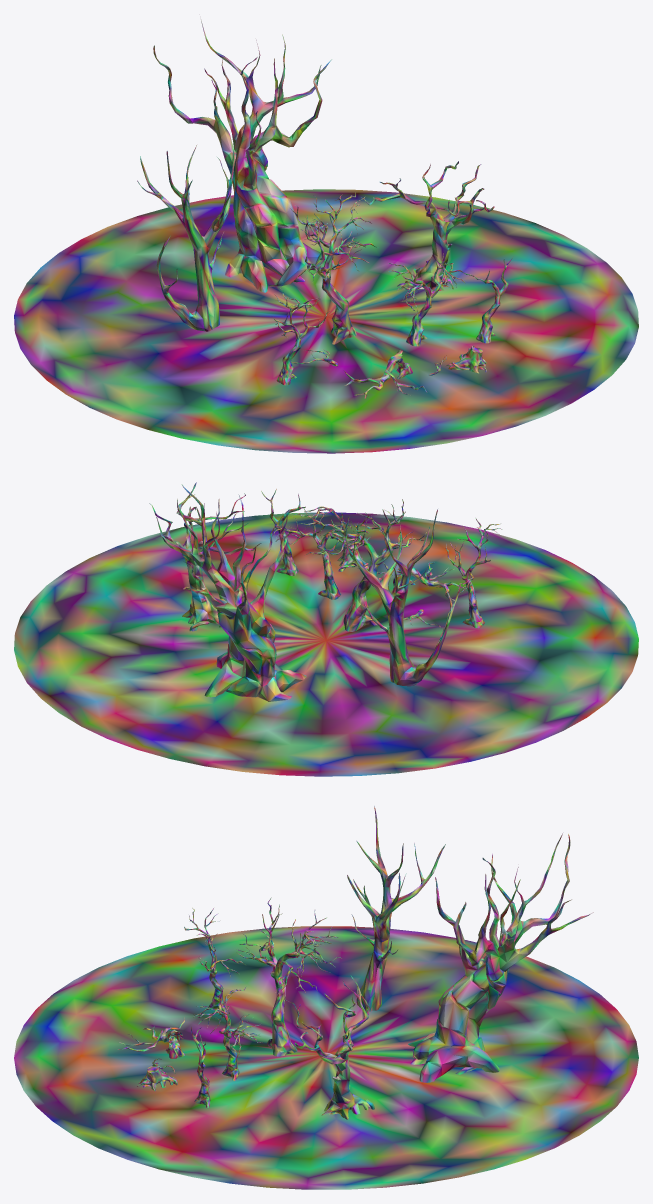
The picture shows the model from 3 angles, top to bottom: view 1: azimuth 30°, elevation 25°; view 2: azimuth 150°, elevation 25°; view 3: azimuth 270°, elevation 25°; orthographic projection.
Parts seen in each view (by area): view 1: WP_Stylizedtree_Sketchfab_003_05 - Default_0, WP_Stylizedtree_Sketchfab_003_WM_Stylizedtree_A_001_0, WP_Stylizedtree_Sketchfab_003_WM_Stylizedtree_B_001_0; view 2: WP_Stylizedtree_Sketchfab_003_05 - Default_0, WP_Stylizedtree_Sketchfab_003_WM_Stylizedtree_A_001_0, WP_Stylizedtree_Sketchfab_003_WM_Stylizedtree_B_001_0; view 3: WP_Stylizedtree_Sketchfab_003_05 - Default_0, WP_Stylizedtree_Sketchfab_003_WM_Stylizedtree_A_001_0, WP_Stylizedtree_Sketchfab_003_WM_Stylizedtree_B_001_0.
Boxes of the visible parts, left/top/right/bottom form: WP_Stylizedtree_Sketchfab_003_05 - Default_0: left=14, top=189, right=638, bottom=453; WP_Stylizedtree_Sketchfab_003_WM_Stylizedtree_A_001_0: left=153, top=20, right=494, bottom=373; WP_Stylizedtree_Sketchfab_003_WM_Stylizedtree_B_001_0: left=137, top=145, right=512, bottom=398; WP_Stylizedtree_Sketchfab_003_05 - Default_0: left=14, top=512, right=638, bottom=776; WP_Stylizedtree_Sketchfab_003_WM_Stylizedtree_A_001_0: left=149, top=482, right=368, bottom=701; WP_Stylizedtree_Sketchfab_003_WM_Stylizedtree_B_001_0: left=261, top=489, right=502, bottom=686; WP_Stylizedtree_Sketchfab_003_05 - Default_0: left=14, top=926, right=638, bottom=1189; WP_Stylizedtree_Sketchfab_003_WM_Stylizedtree_A_001_0: left=137, top=833, right=593, bottom=1119; WP_Stylizedtree_Sketchfab_003_WM_Stylizedtree_B_001_0: left=118, top=806, right=445, bottom=1107.
Size of the model in its own units: 3347 by 1588 by 3354.
